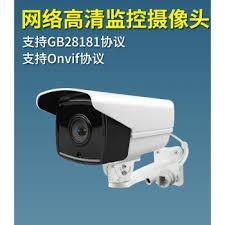tutu: (42, 92, 182, 169)
